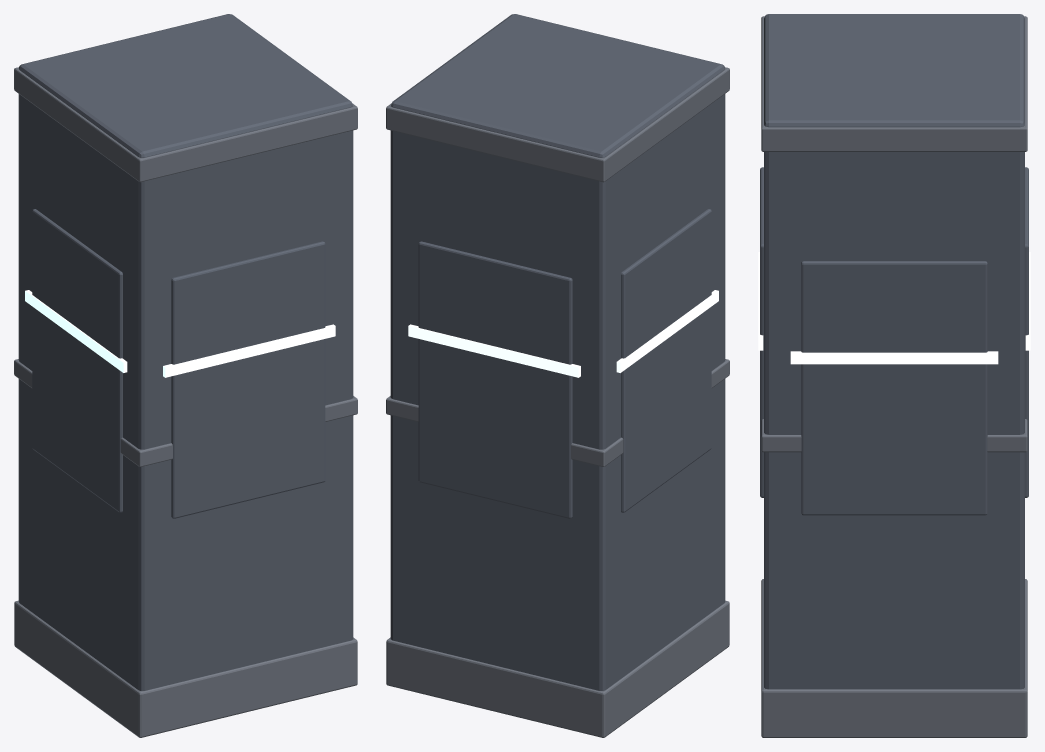
The model's file is wall_panel.glb.
3 views of the same model, side by side, from view 1: azimuth 30°, elevation 25°; view 2: azimuth 150°, elevation 25°; view 3: azimuth 270°, elevation 25° (orthographic). The views are drawn at different scales.
Visible parts, largest first — view 1: wall_panel; view 2: wall_panel; view 3: wall_panel.
Part boxes in pixels (box(x1,y1,x2,y2)): wall_panel: box(14, 14, 357, 737); wall_panel: box(386, 14, 729, 737); wall_panel: box(758, 14, 1030, 737).
Size of the model in its own units: 1.02 by 2.55 by 1.02.
